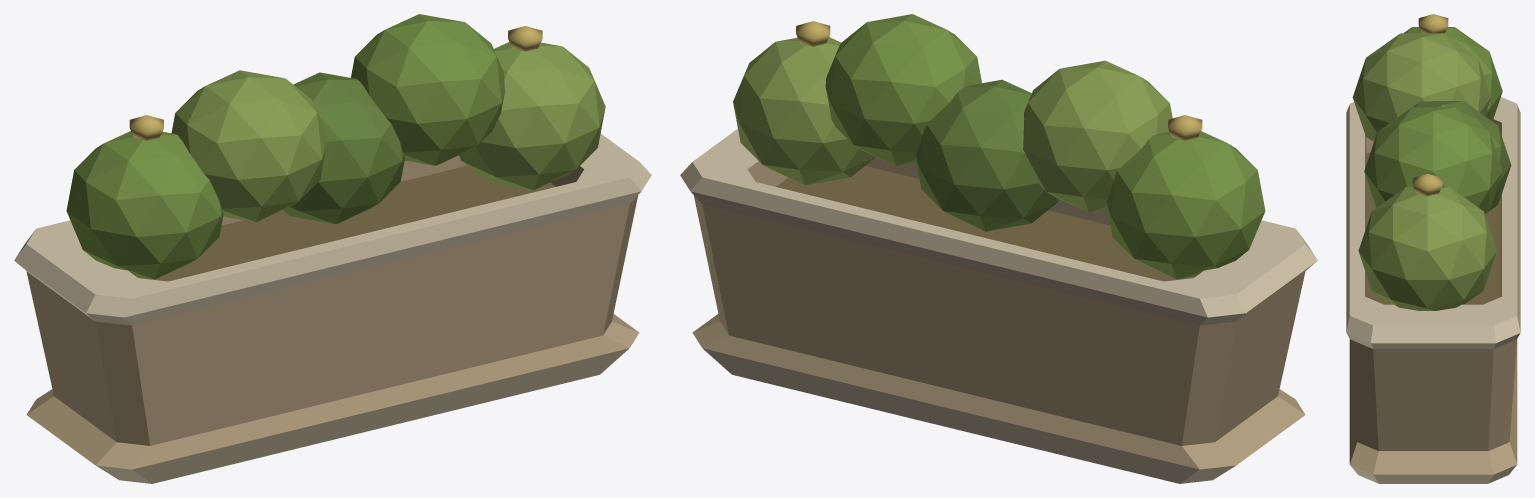
The model's file is planter_long.glb.
3 renders of one model, left to right at view 1: azimuth 30°, elevation 25°; view 2: azimuth 150°, elevation 25°; view 3: azimuth 270°, elevation 25°, orthographic. The views are drawn at different scales.
Parts seen in each view (by area): view 1: planter_long; view 2: planter_long; view 3: planter_long.
Part boxes in pixels (bbox=[...]): planter_long: bbox=[14, 14, 651, 483]; planter_long: bbox=[680, 14, 1317, 483]; planter_long: bbox=[1346, 14, 1520, 483].
Bounding box in the file's own units: 1.98 × 1.18 × 0.6032.
